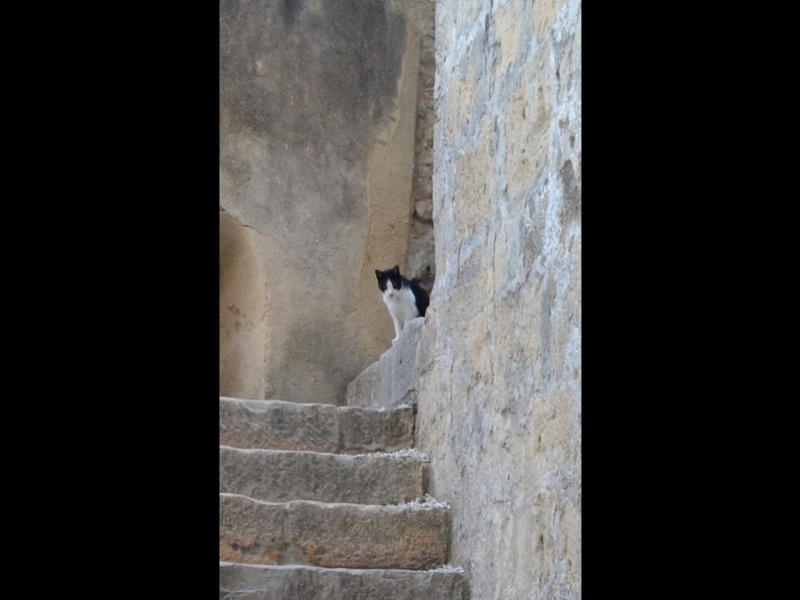cat: (371, 265, 433, 345)
